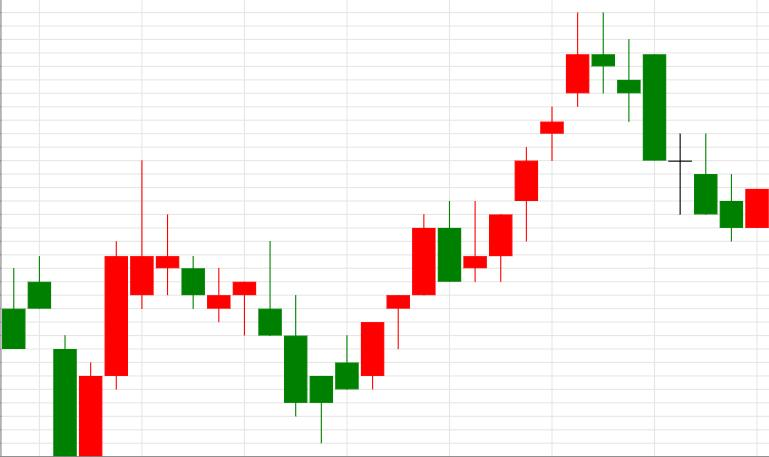hammer_rise: (181, 241, 333, 443)
